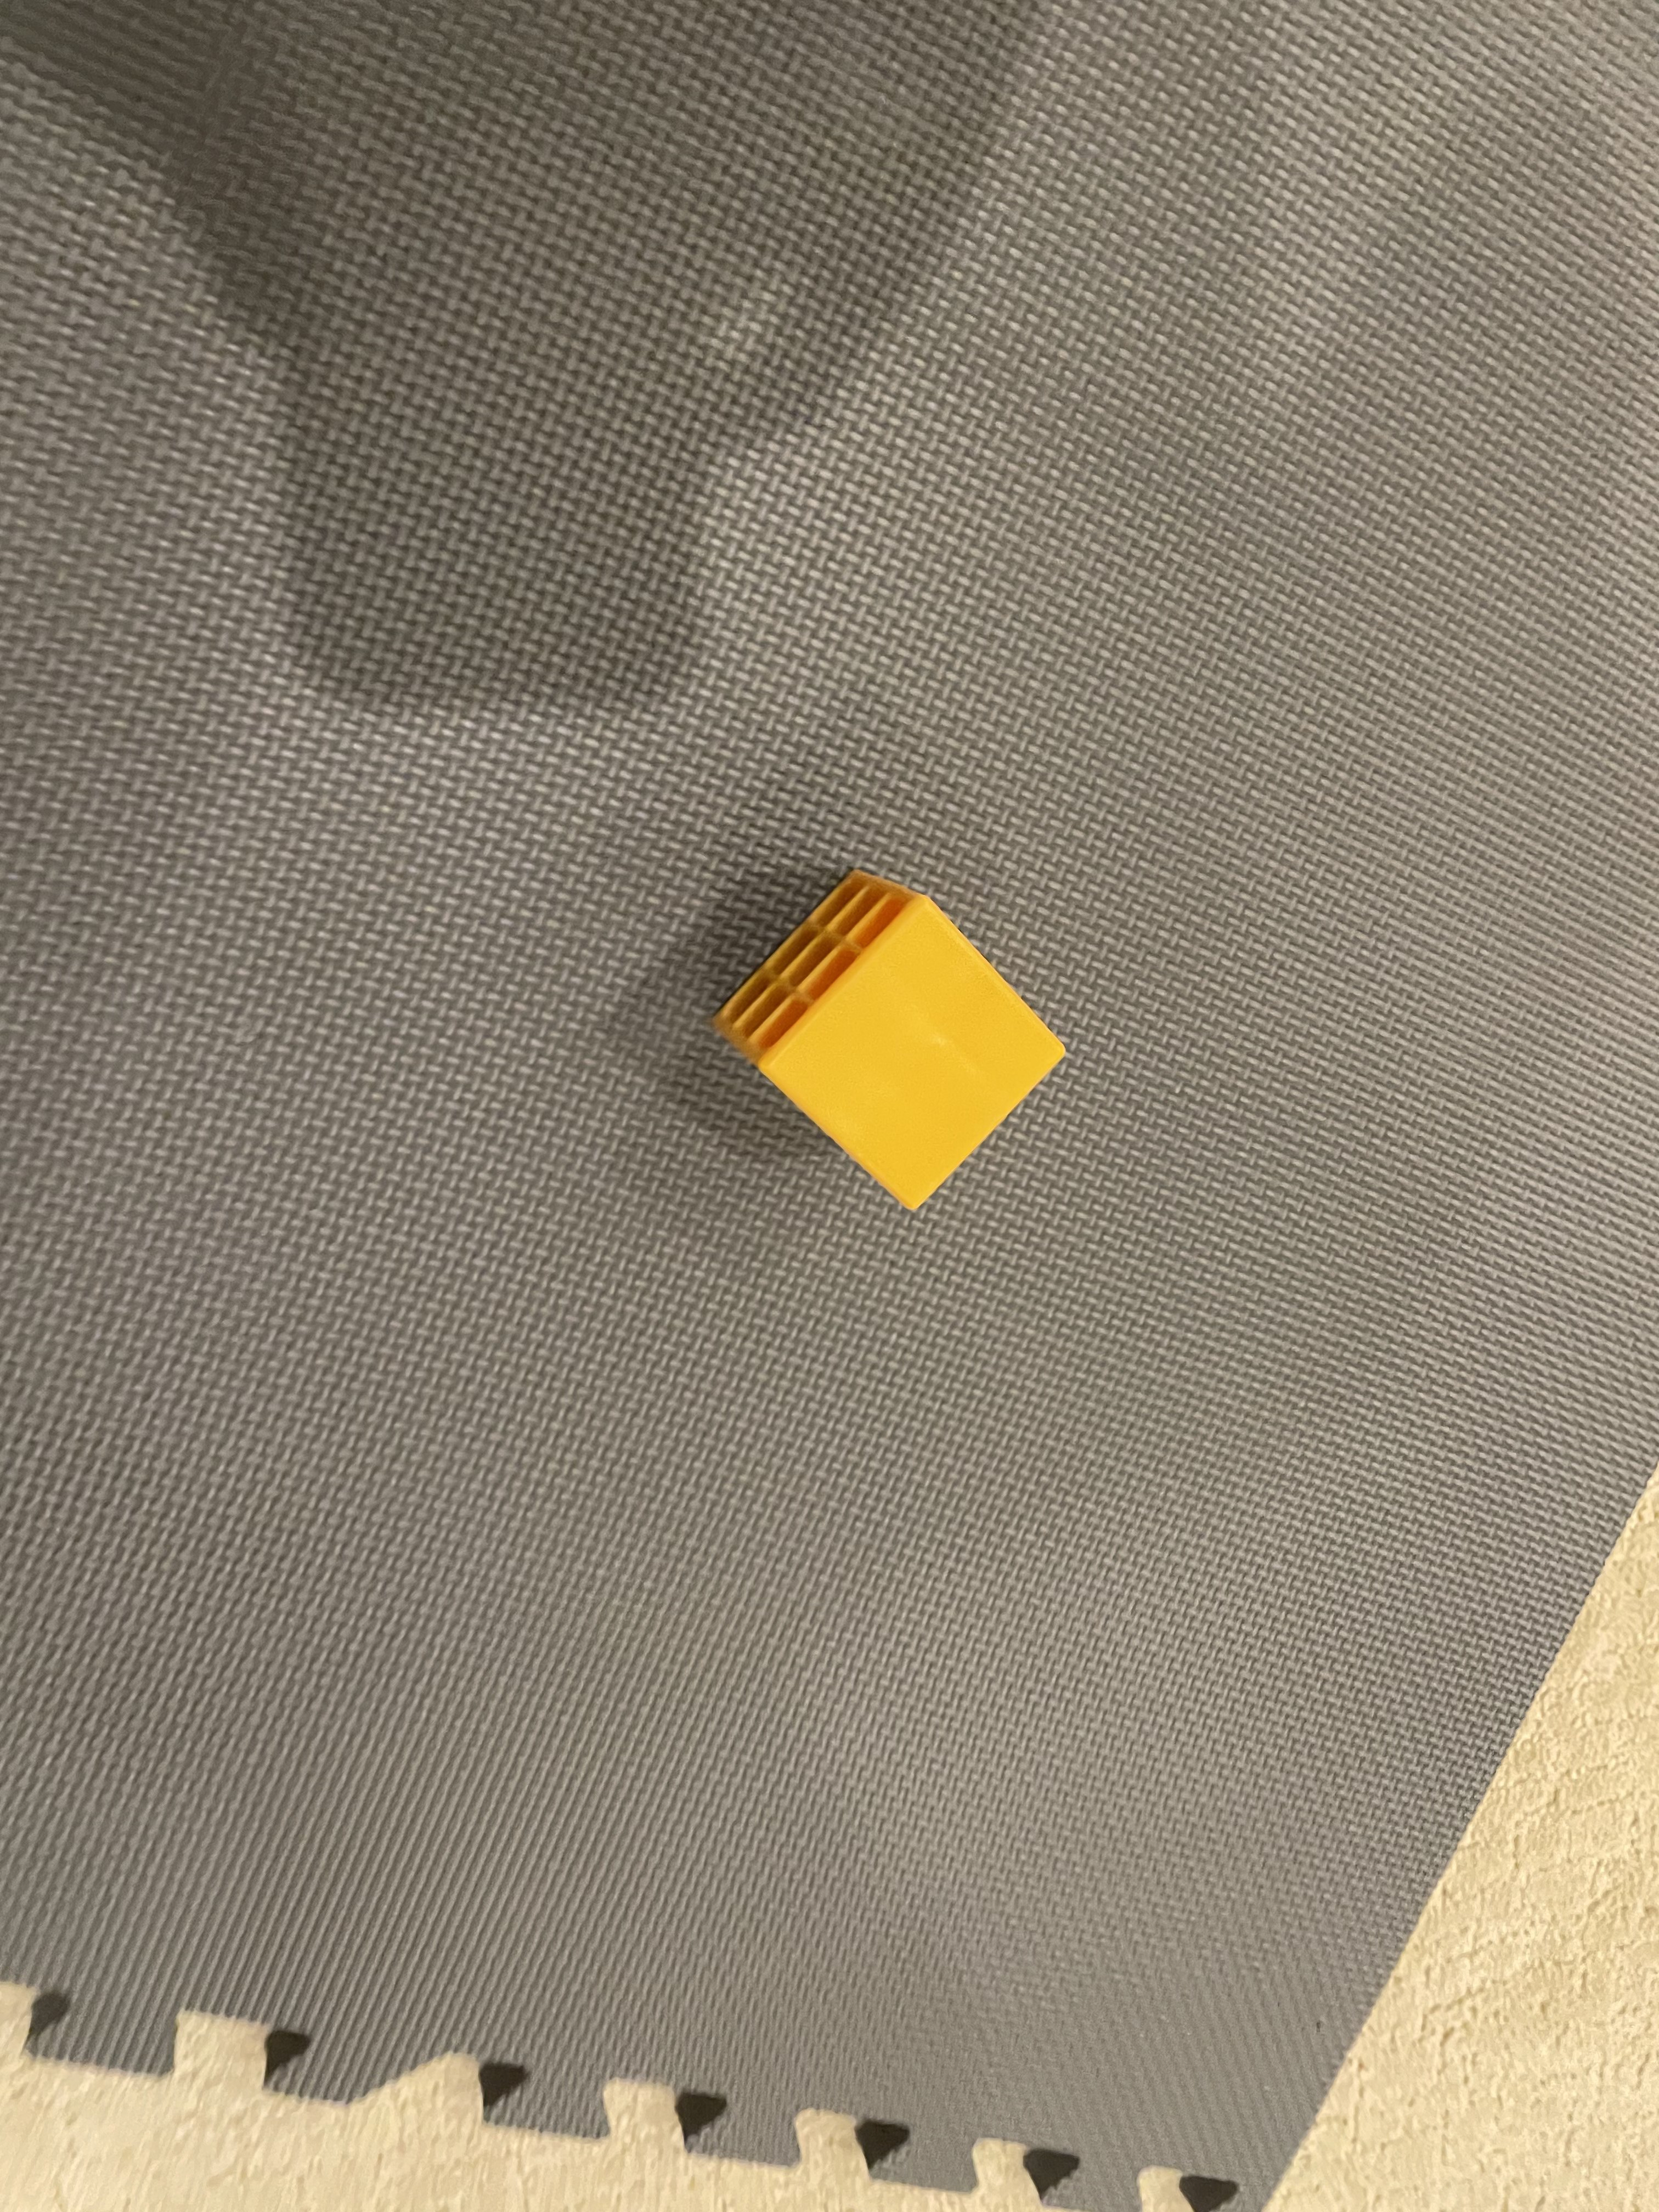cube: (697, 834, 1091, 1238)
